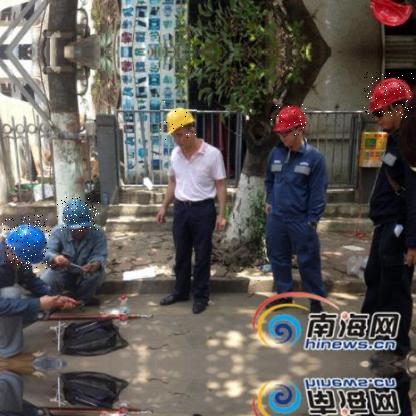safetyhelmet: (2, 216, 52, 272), (364, 71, 415, 119), (57, 196, 100, 232), (160, 102, 198, 142), (268, 103, 310, 137)
